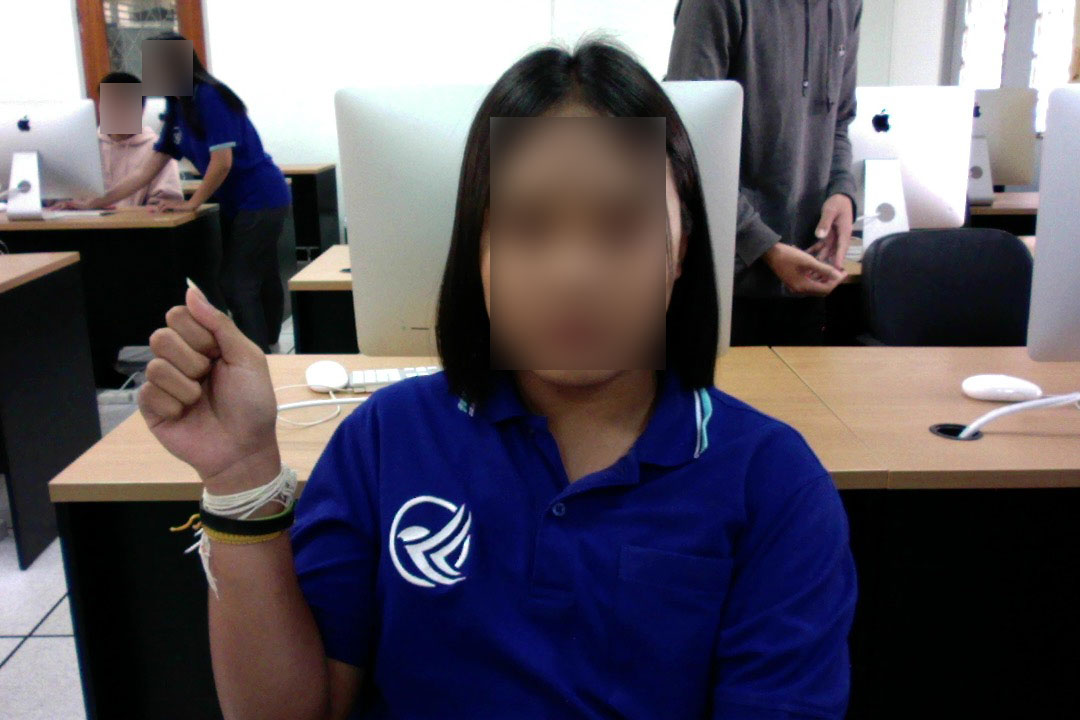or: (124, 274, 290, 500)
